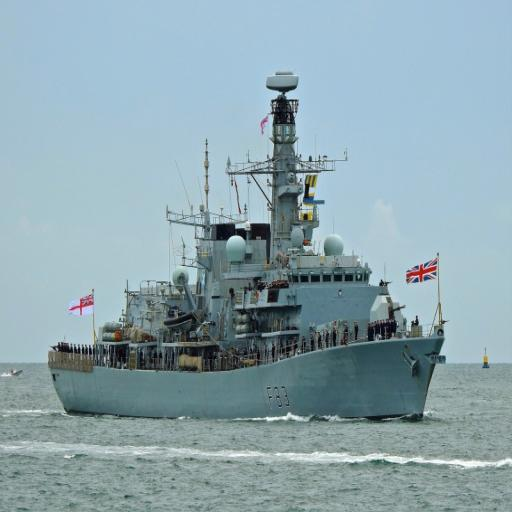Fragata: (48, 68, 456, 419)
